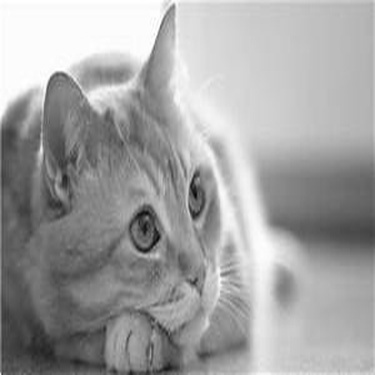cat: (2, 1, 305, 371)
